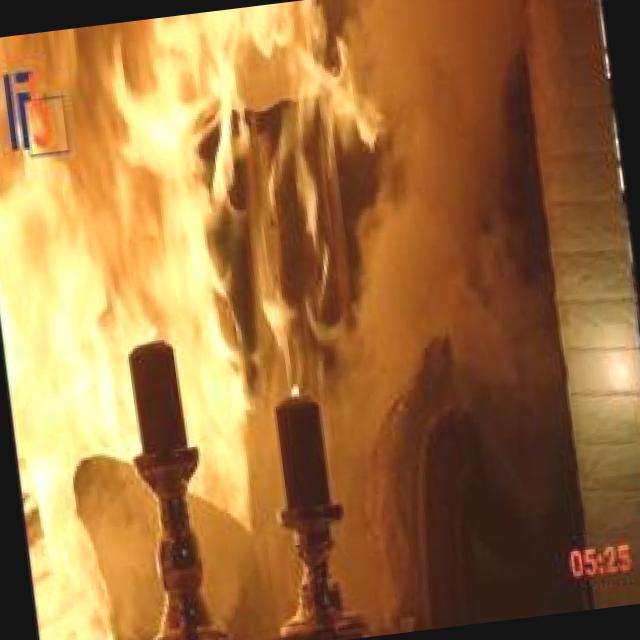fire: (0, 0, 339, 333)
